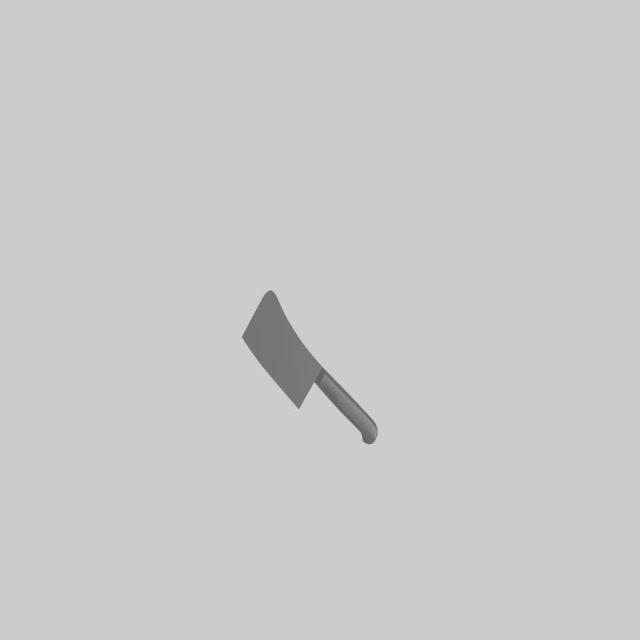knife: (314, 368, 377, 444)
